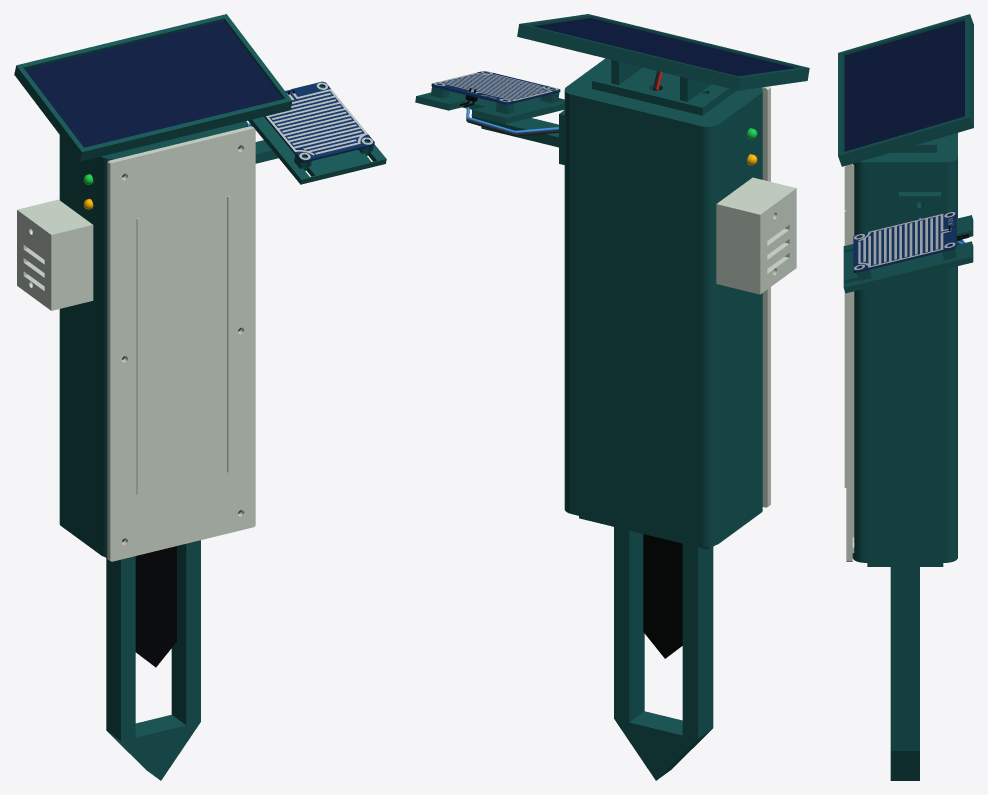
The model's file is estaca-v6.glb.
The picture shows the model from 3 angles, left to right: view 1: azimuth 30°, elevation 25°; view 2: azimuth 150°, elevation 25°; view 3: azimuth 270°, elevation 25°; orthographic projection. The views are drawn at different scales.
Parts seen in each view (by area): view 1: Tampa_frontal, Painel_solar_110x60x2, Corpo_box, Estaca_protetora, Abrigo_KY013, Suporte_painel_solar, Umidade_solo_PCB, FC37_PCB, Suporte_chuva, FC37_Trilhas; view 2: Corpo_box, Estaca_protetora, Suporte_painel_solar, Abrigo_KY013, Painel_solar_110x60x2, Umidade_solo_PCB, Suporte_chuva, Tampa_frontal, FC37_PCB, FC37_Trilhas; view 3: Corpo_box, Painel_solar_110x60x2, Estaca_protetora, Suporte_painel_solar, Suporte_chuva, Tampa_frontal, FC37_PCB, FC37_Trilhas.
Part boxes in pixels (x1,y1,x2,y2): Tampa_frontal: [107, 126, 255, 561]; Painel_solar_110x60x2: [25, 21, 282, 147]; Corpo_box: [59, 121, 247, 557]; Estaca_protetora: [105, 540, 200, 780]; Abrigo_KY013: [17, 199, 93, 310]; Suporte_painel_solar: [14, 14, 292, 161]; Umidade_solo_PCB: [135, 546, 176, 667]; FC37_PCB: [264, 82, 374, 162]; Suporte_chuva: [248, 81, 386, 184]; FC37_Trilhas: [266, 82, 372, 159]; Corpo_box: [564, 58, 762, 546]; Estaca_protetora: [579, 516, 714, 780]; Suporte_painel_solar: [517, 14, 809, 115]; Abrigo_KY013: [716, 177, 796, 294]; Painel_solar_110x60x2: [533, 18, 795, 76]; Umidade_solo_PCB: [643, 534, 682, 658]; Suporte_chuva: [415, 87, 564, 164]; Tampa_frontal: [761, 86, 770, 507]; FC37_PCB: [431, 71, 560, 104]; FC37_Trilhas: [433, 71, 558, 101]; Corpo_box: [852, 133, 957, 562]; Painel_solar_110x60x2: [844, 20, 964, 151]; Estaca_protetora: [867, 563, 943, 780]; Suporte_painel_solar: [838, 14, 973, 166]; Suporte_chuva: [843, 192, 973, 293]; Tampa_frontal: [844, 163, 854, 561]; FC37_PCB: [853, 211, 956, 272]; FC37_Trilhas: [854, 212, 955, 269].
Bounding box in the file's own units: 0.1745 × 0.3751 × 0.0646.
